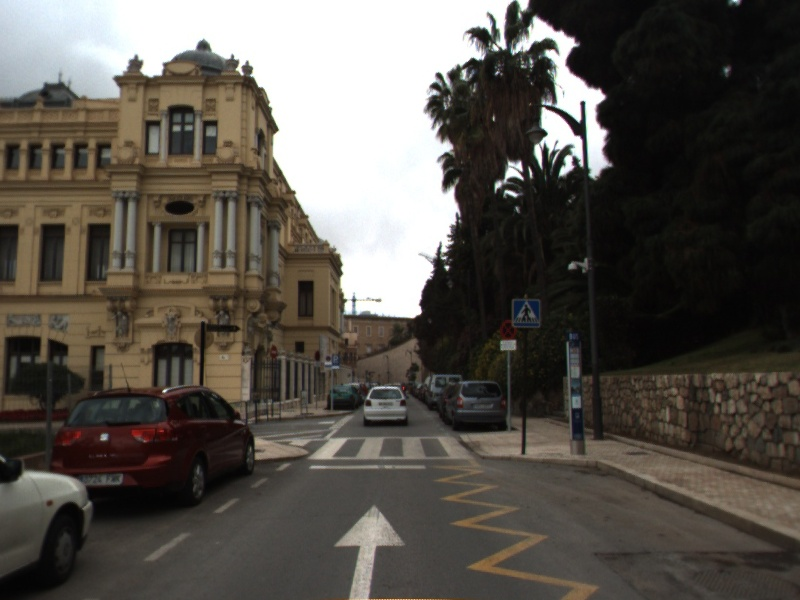STRAIGHT: (331, 503, 409, 600)
